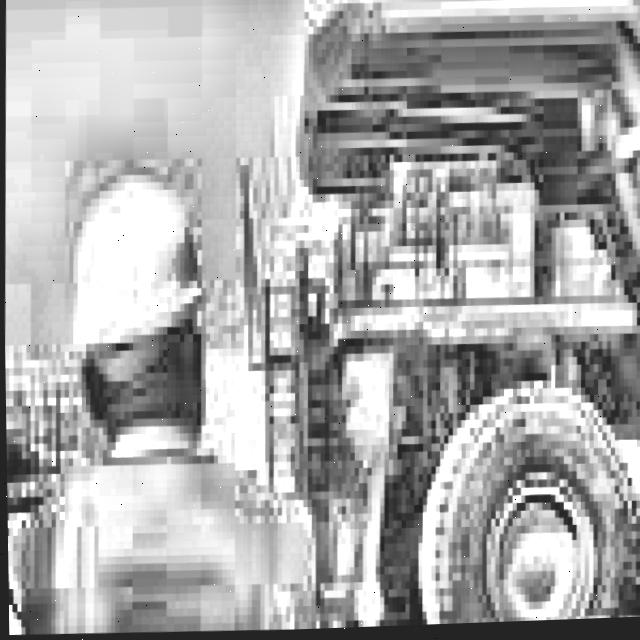dump_truck: (275, 0, 640, 632)
